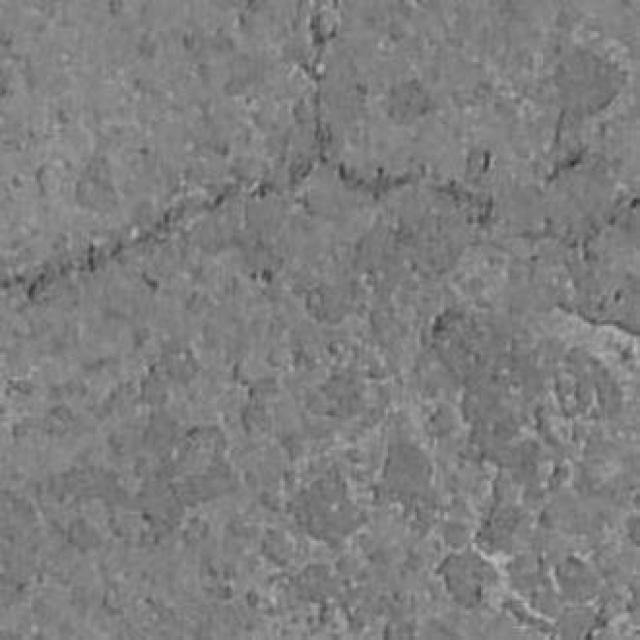crack: (0, 183, 244, 306), (336, 163, 424, 201)
